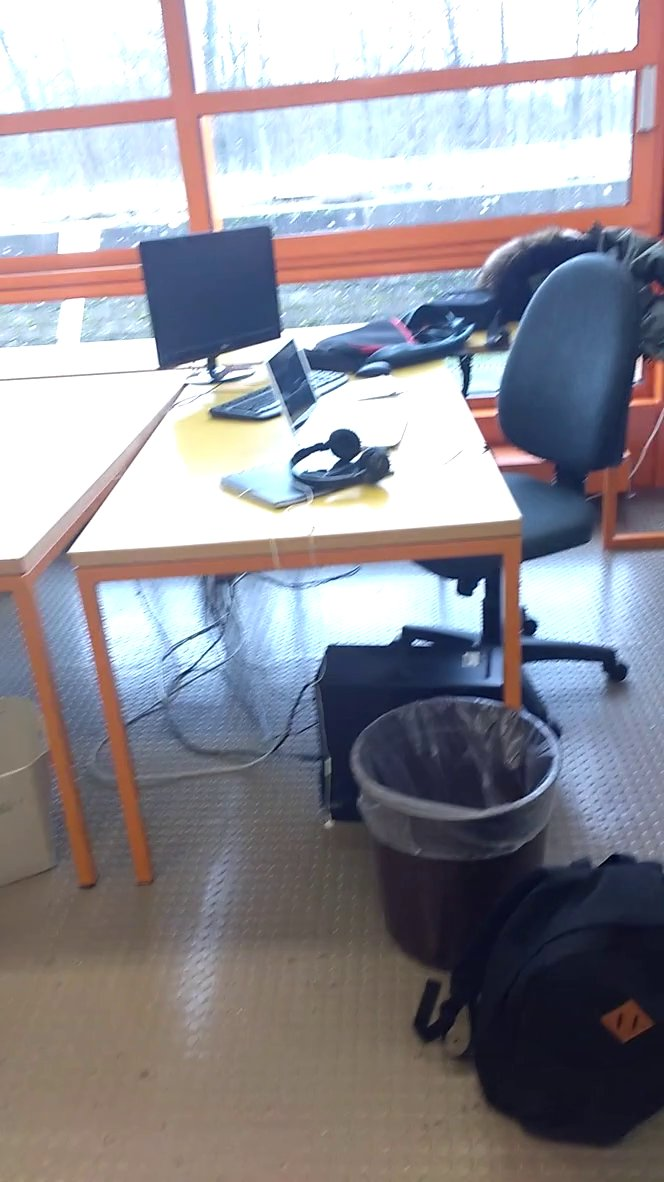bag: (404, 834, 664, 1157)
bin: (344, 687, 570, 980)
chair: (429, 245, 646, 679)
laptop: (260, 334, 421, 470)
